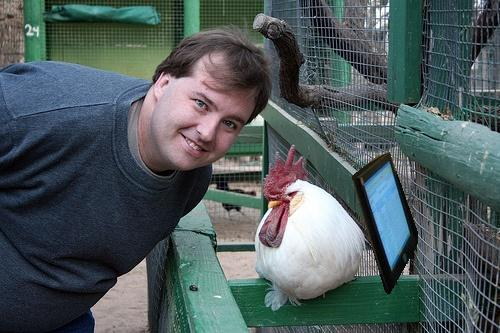tampered: (353, 153, 418, 294)
